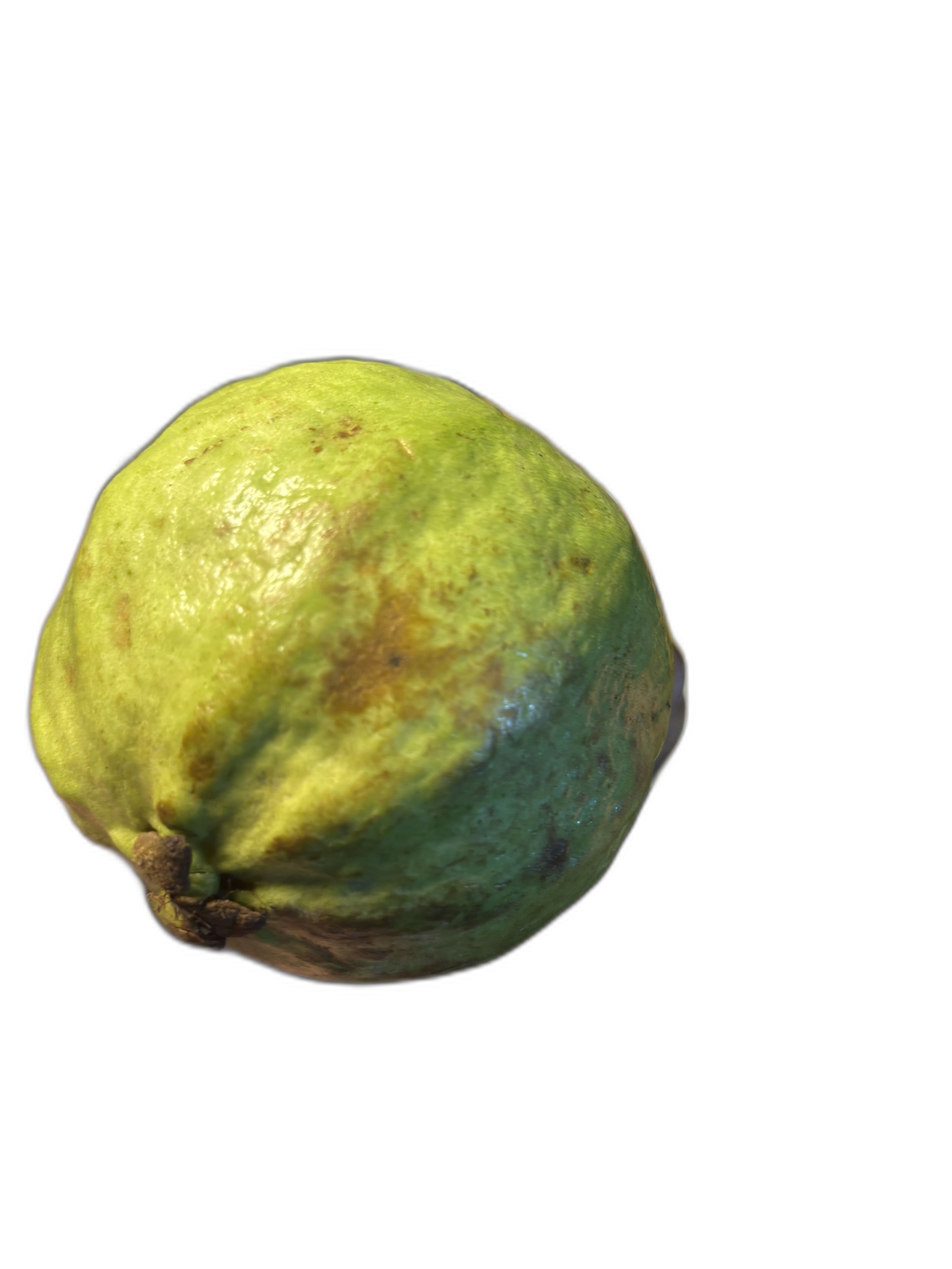guava: (0, 154, 777, 935)
